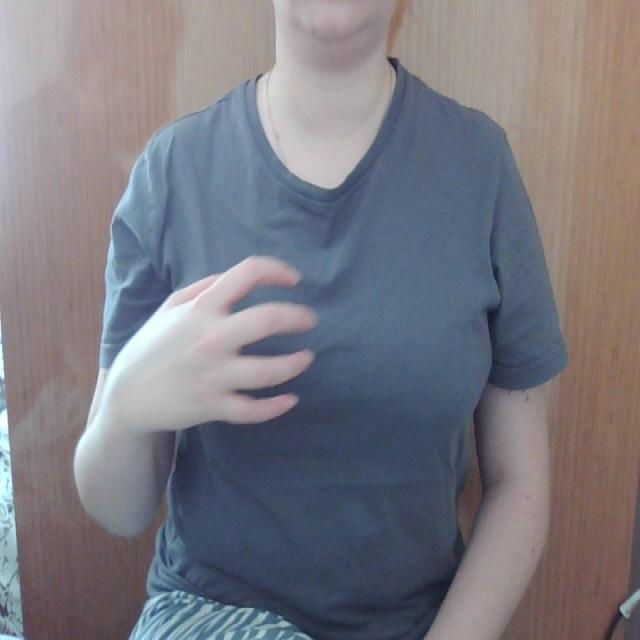Anne: (73, 240, 512, 447)
